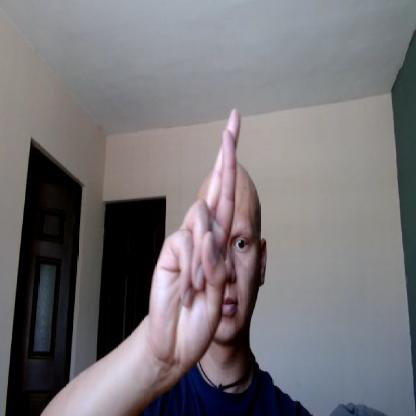R: (147, 108, 242, 362)
